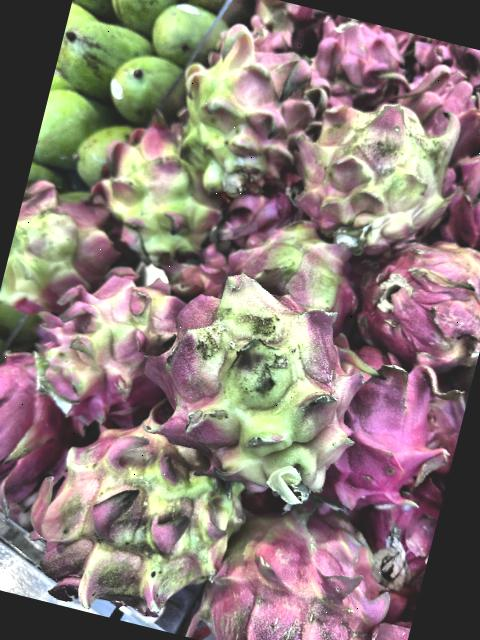buah-naga-belum-matang: (134, 263, 379, 511), (23, 411, 258, 640), (154, 15, 340, 219), (277, 77, 473, 266), (209, 487, 406, 640), (34, 251, 186, 438), (84, 112, 242, 277), (0, 169, 135, 332), (366, 230, 480, 379)
buah-naga-matang: (327, 347, 474, 534), (0, 334, 93, 538), (378, 33, 480, 166), (302, 10, 408, 106), (421, 136, 480, 259)
